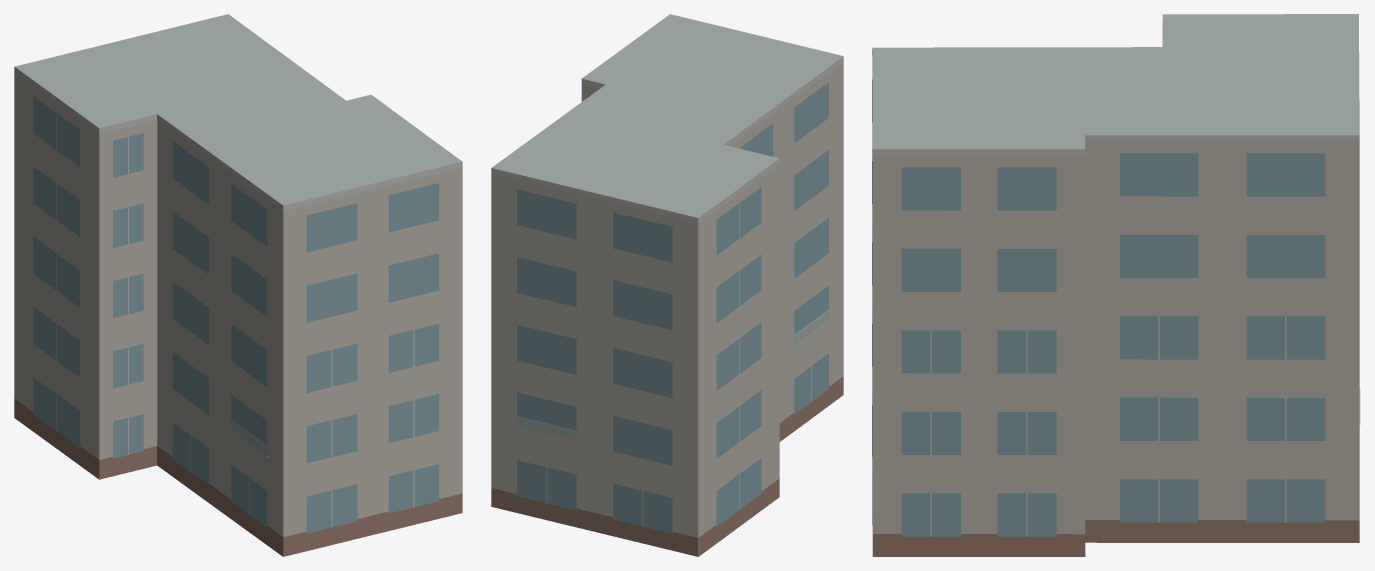
File: survey-upis-32581310.glb
The picture shows the model from 3 angles, left to right: view 1: azimuth 30°, elevation 25°; view 2: azimuth 150°, elevation 25°; view 3: azimuth 270°, elevation 25°; orthographic projection. The views are drawn at different scales.
Visible parts, largest first — view 1: survey-upis-32581310.tmp; view 2: survey-upis-32581310.tmp; view 3: survey-upis-32581310.tmp.
Boxes of the visible parts, x1,y1,x2,y2 form: survey-upis-32581310.tmp: [14, 14, 462, 556]; survey-upis-32581310.tmp: [491, 14, 843, 556]; survey-upis-32581310.tmp: [872, 14, 1360, 556].
Bounding box in the file's own units: 10.69 × 15 × 16.3.
